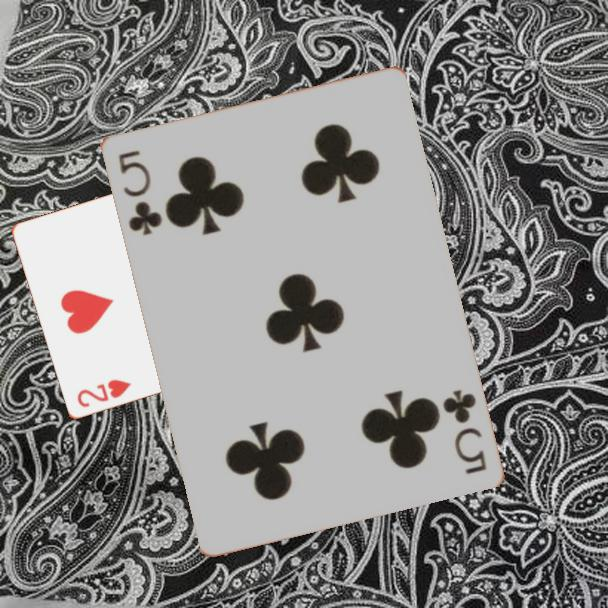c05: (114, 146, 165, 238), (438, 385, 489, 477)
h02: (73, 376, 134, 411)
